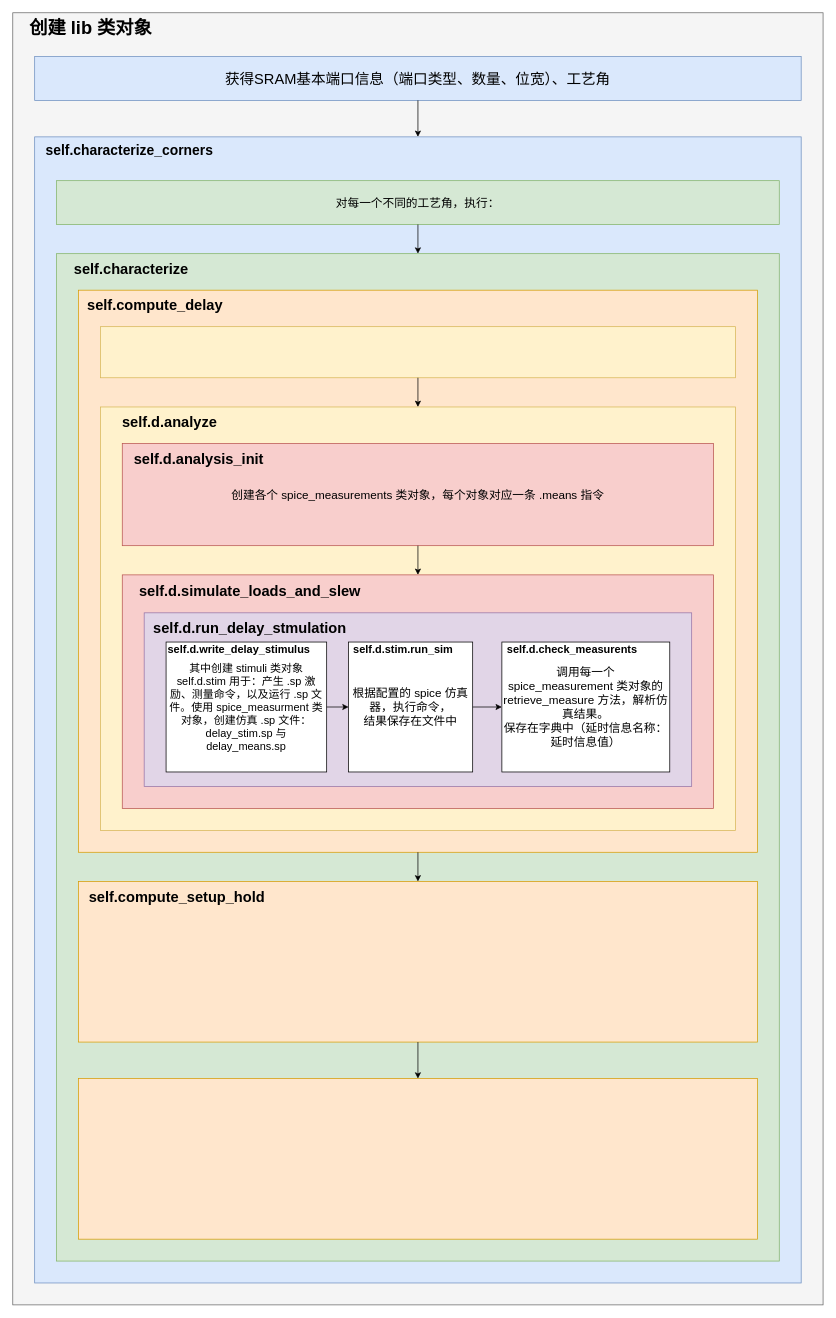
This 836x1318 diagram has some shape labels left out. Each missing label, with the centre of its shape:
写 .lib 文件: the point at 417,1158
选择延时模型（以delay为例），创建延时类 delay 对象 self.d: the point at 417,352
